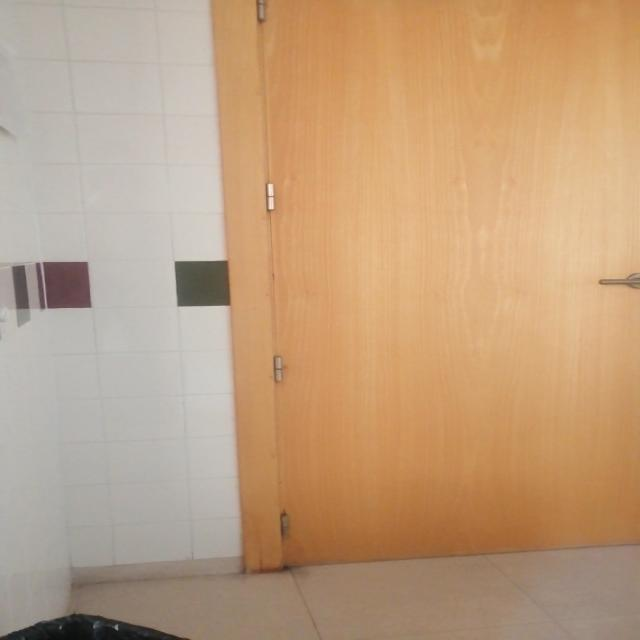door_handle: (595, 277, 640, 286)
